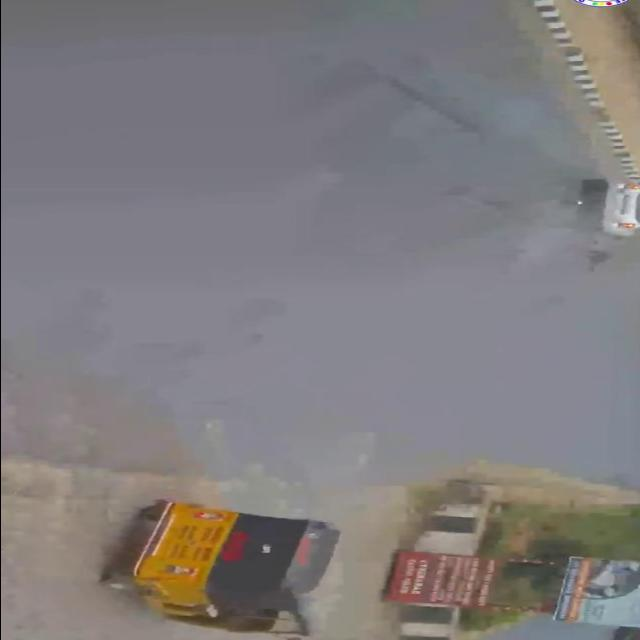accident: (552, 175, 640, 277)
